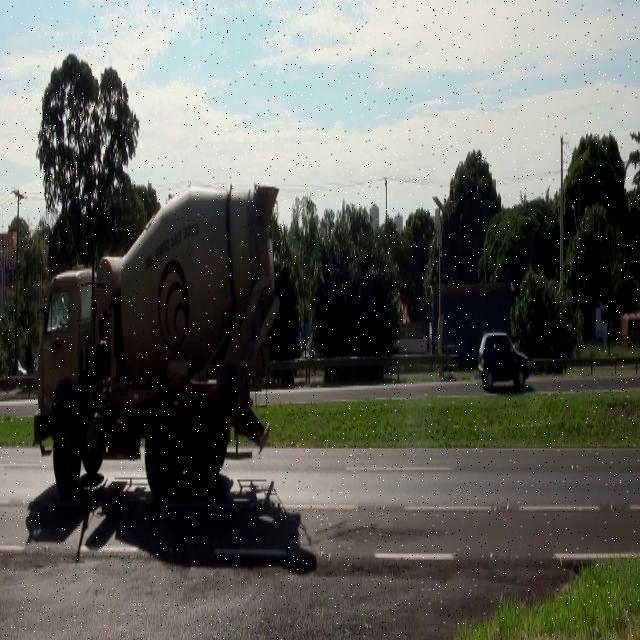-axle: (144, 404, 180, 506), (184, 404, 218, 507), (52, 404, 81, 495)
